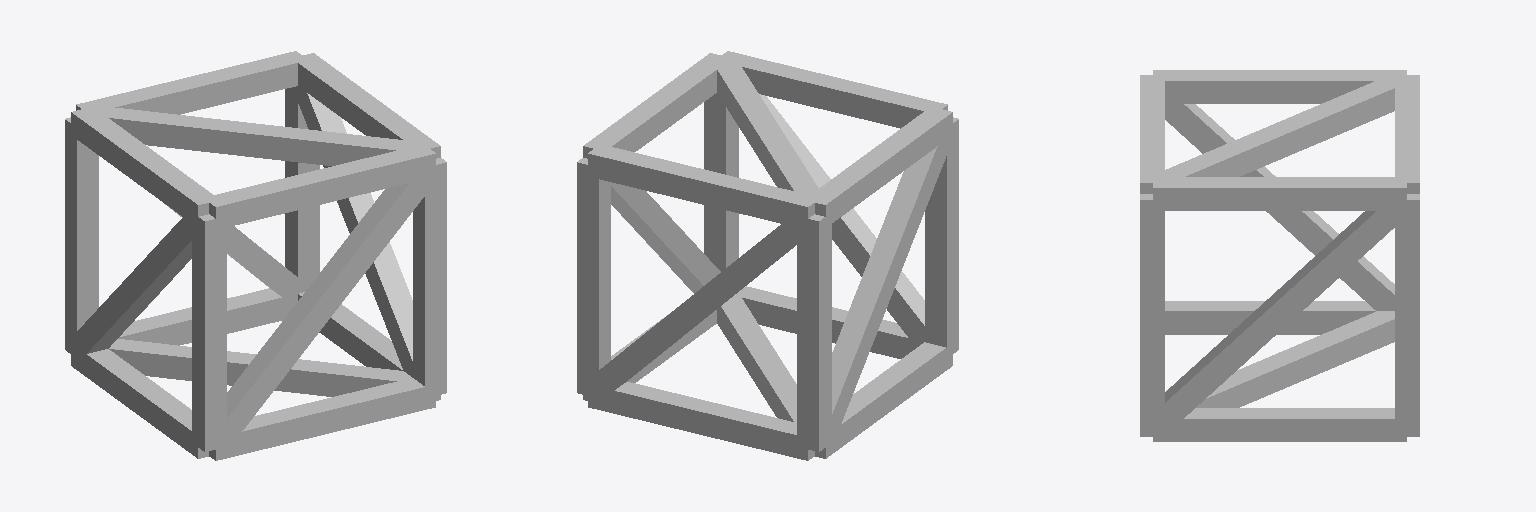
The model's file is truss_hub_medium.obj.
The picture shows the model from 3 angles: view 1: azimuth 30°, elevation 25°; view 2: azimuth 150°, elevation 25°; view 3: azimuth 270°, elevation 25°; orthographic projection.
Parts seen in each view (by area): view 1: Cube1; view 2: Cube1; view 3: Cube1.
Part boxes in pixels (x1,y1,x2,y2): Cube1: (65,51,446,460); Cube1: (577,51,958,460); Cube1: (1140,70,1419,441).
Bounding box in the file's own units: 2.2 × 2.2 × 2.2.